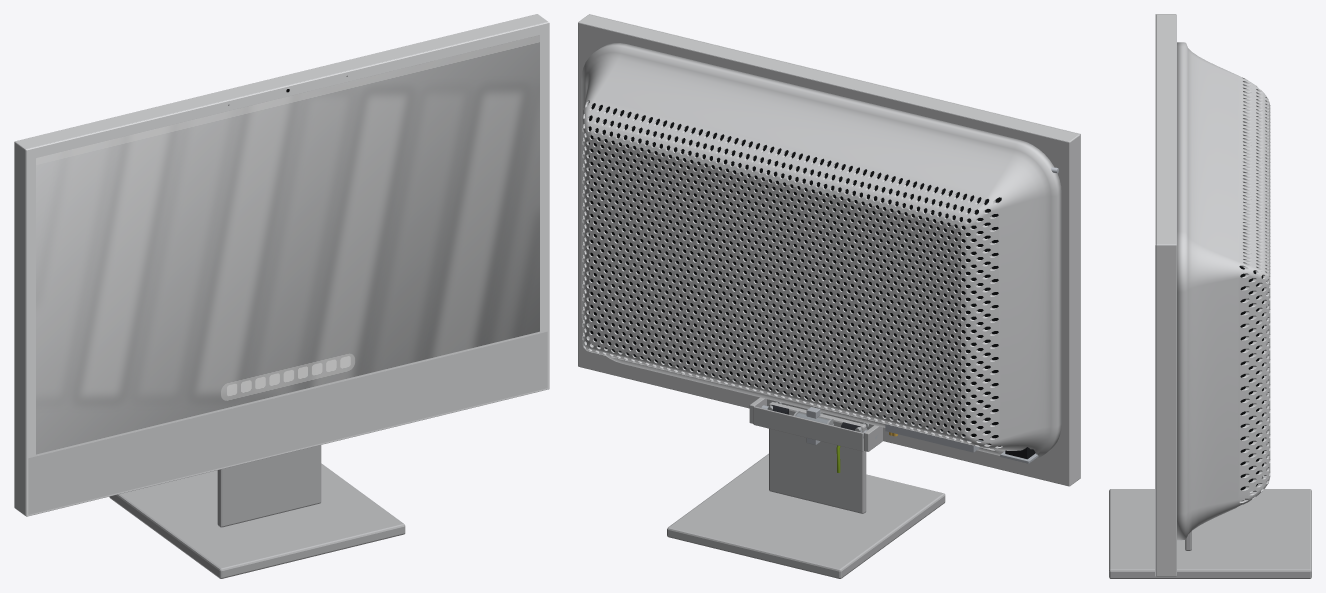
Rendered from imac_pc.v007__2026-11-06_9ff6031.glb.
3 renders of one model, left to right at view 1: azimuth 30°, elevation 25°; view 2: azimuth 150°, elevation 25°; view 3: azimuth 270°, elevation 25°, orthographic. The views are drawn at different scales.
Visible parts, largest first — view 1: display, chin_print, stand_foot, front_glass, slab, stand_arm; view 2: cover_back, cover_filter, slab, stand_foot, stand_arm, hinge_cover, front_glass, io_shield; view 3: cover_back, stand_foot, slab, cover_filter, front_glass.
Part boxes in pixels (x1,y1,x2,y2): display: [36, 35, 539, 454]; chin_print: [28, 331, 547, 514]; stand_foot: [109, 463, 405, 578]; front_glass: [26, 22, 549, 516]; slab: [14, 14, 548, 515]; stand_arm: [217, 445, 321, 527]; cover_back: [581, 43, 1061, 458]; cover_filter: [589, 100, 1002, 446]; slab: [578, 14, 1080, 486]; stand_foot: [667, 453, 945, 578]; stand_arm: [769, 402, 866, 513]; hinge_cover: [753, 406, 863, 451]; front_glass: [589, 14, 1080, 478]; io_shield: [885, 417, 982, 452]; cover_back: [1177, 42, 1270, 540]; stand_foot: [1109, 489, 1311, 578]; slab: [1156, 14, 1176, 576]; cover_filter: [1239, 266, 1263, 490]; front_glass: [1155, 14, 1155, 576].
Size of the model in its own units: 620 by 515 by 230.
65 materials, 4 textured.
